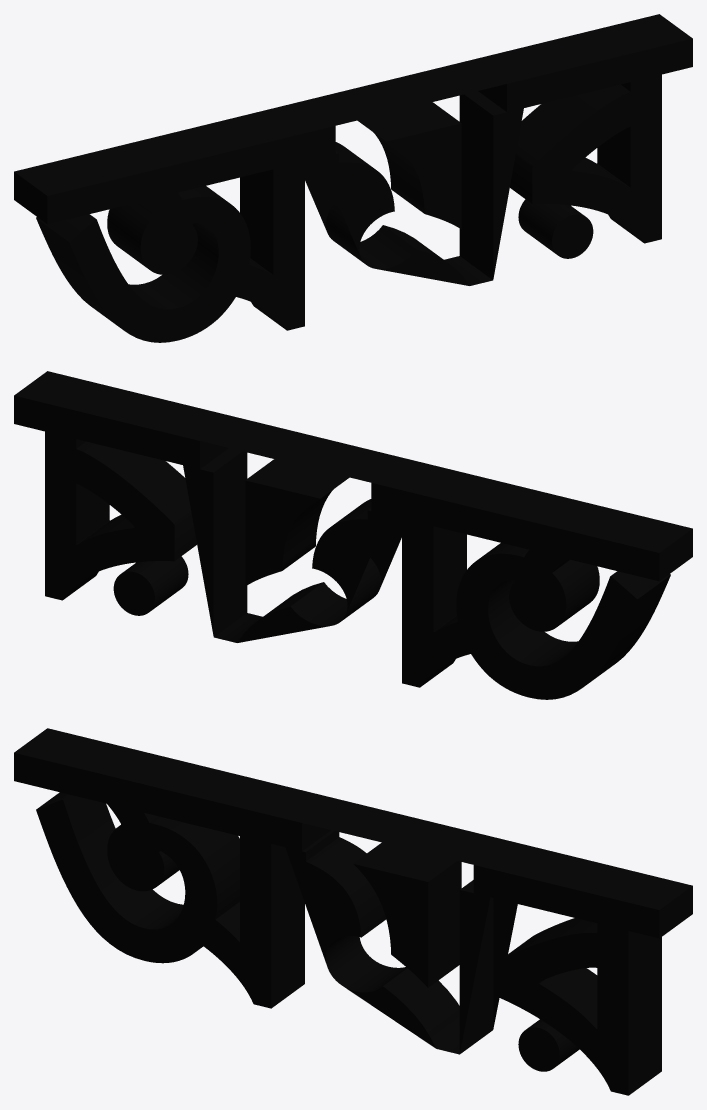
Rendered from omor.glb.
3 views of the same model, one above another, from view 1: azimuth 30°, elevation 25°; view 2: azimuth 150°, elevation 25°; view 3: azimuth 330°, elevation 25° (orthographic).
Visible parts, largest first — view 1: mesh_id36; view 2: mesh_id36; view 3: mesh_id36.
Part boxes in pixels (box(x1,y1,x2,y2)): mesh_id36: box(14, 14, 692, 342); mesh_id36: box(14, 371, 692, 699); mesh_id36: box(14, 728, 692, 1095).
Bounding box in the file's own units: 0.2504 × 0.0716 × 0.0225.
Materials: 1 (1 with a texture image).
